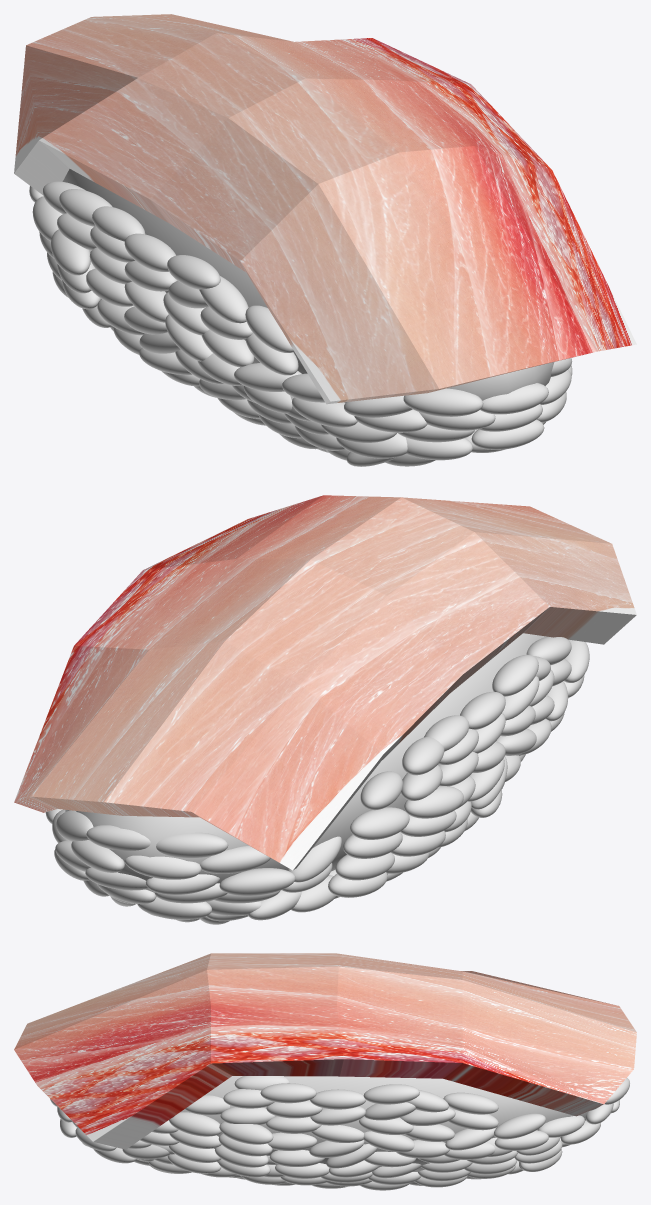
File: tai.fbx
3 views of the same model, one above another, from view 1: azimuth 30°, elevation 25°; view 2: azimuth 150°, elevation 25°; view 3: azimuth 270°, elevation 25° (orthographic). The views are drawn at different scales.
Visible parts, largest first — view 1: 平面, 球, 球.117, 球.148, 球.155, 球.134, 球.149, 球.158, 球.137, 球.131, 球.146, 球.115 (+30 smaller); view 2: 平面, 球, 球.173, 球.114, 球.172, 球.174, 球.181, 球.148, 球.115, 球.080, 球.167, 球.081 (+28 smaller); view 3: 平面, 球, 球.041, 球.007, 球.009, 球.016, 球.018, 球.006, 球.040, 球.012, 球.073, 球.001 (+43 smaller).
Boxes of the visible parts, x1,y1,x2,y2 form: 平面: (14, 14, 636, 404); 球: (62, 169, 554, 402); 球.117: (403, 388, 483, 416); 球.148: (167, 255, 220, 289); 球.155: (480, 383, 548, 414); 球.134: (199, 276, 248, 323); 球.149: (124, 233, 175, 271); 球.158: (471, 419, 544, 449); 球.137: (245, 305, 293, 352); 球.131: (292, 397, 357, 427); 球.146: (92, 206, 145, 241); 球.115: (50, 229, 90, 275); 平面: (14, 495, 636, 870); 球: (65, 633, 546, 901); 球.173: (219, 868, 295, 895); 球.114: (350, 807, 409, 839); 球.172: (156, 832, 228, 858); 球.174: (124, 855, 201, 879); 球.181: (200, 845, 270, 873); 球.148: (492, 654, 538, 696); 球.115: (404, 786, 463, 818); 球.080: (360, 771, 402, 810); 球.167: (86, 825, 150, 850); 球.081: (402, 736, 444, 775); 平面: (14, 953, 636, 1149); 球: (180, 1076, 588, 1171); 球.041: (169, 1112, 221, 1136); 球.007: (363, 1084, 419, 1104); 球.009: (260, 1083, 316, 1103); 球.016: (494, 1113, 545, 1139); 球.018: (443, 1092, 498, 1114); 球.006: (310, 1089, 365, 1109); 球.040: (219, 1121, 273, 1144); 球.012: (363, 1131, 414, 1152); 球.073: (220, 1107, 274, 1124); 球.001: (310, 1106, 365, 1125).
Bounding box in the file's own units: 242 × 183 × 495.
2 materials, 1 textured.
